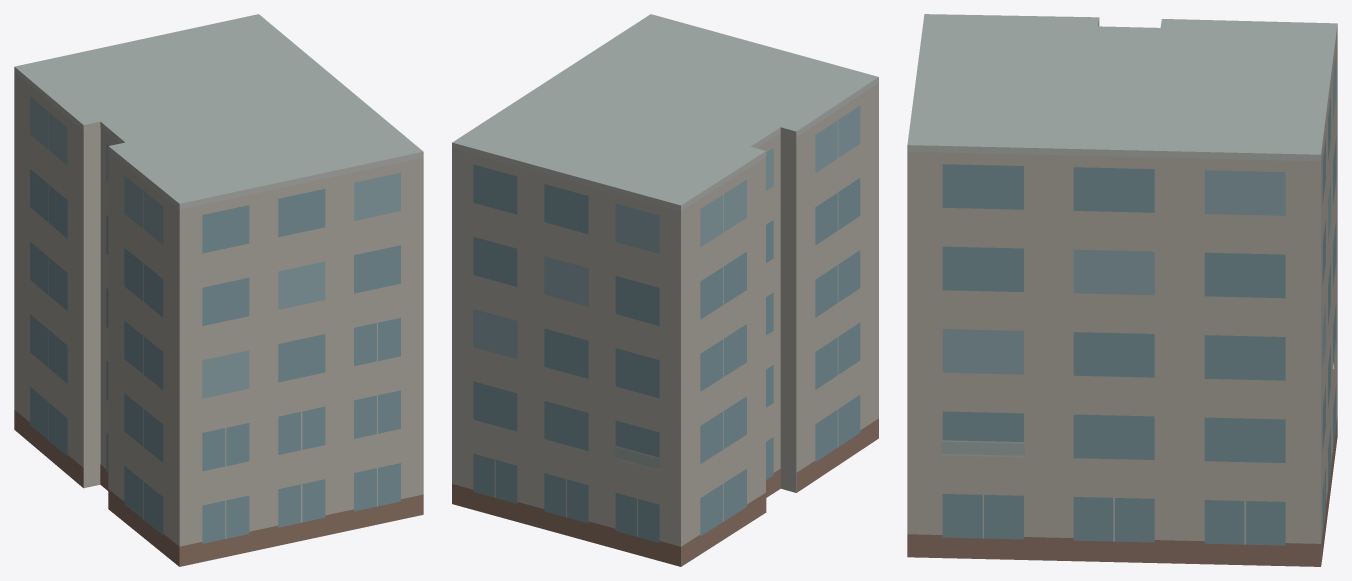
Rendered from survey-upis-32652729.glb.
The picture shows the model from 3 angles, left to right: view 1: azimuth 30°, elevation 25°; view 2: azimuth 150°, elevation 25°; view 3: azimuth 270°, elevation 25°; orthographic projection. The views are drawn at different scales.
Visible parts, largest first — view 1: survey-upis-32652729.tmp; view 2: survey-upis-32652729.tmp; view 3: survey-upis-32652729.tmp.
Boxes of the visible parts, x1,y1,x2,y2 form: survey-upis-32652729.tmp: (14,14,423,566); survey-upis-32652729.tmp: (452,14,878,566); survey-upis-32652729.tmp: (907,14,1337,566).
Bounding box in the file's own units: 11.17 × 15.25 × 14.44.
